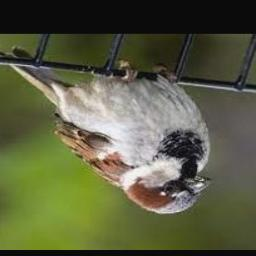Sparrow: (0, 46, 211, 214)
